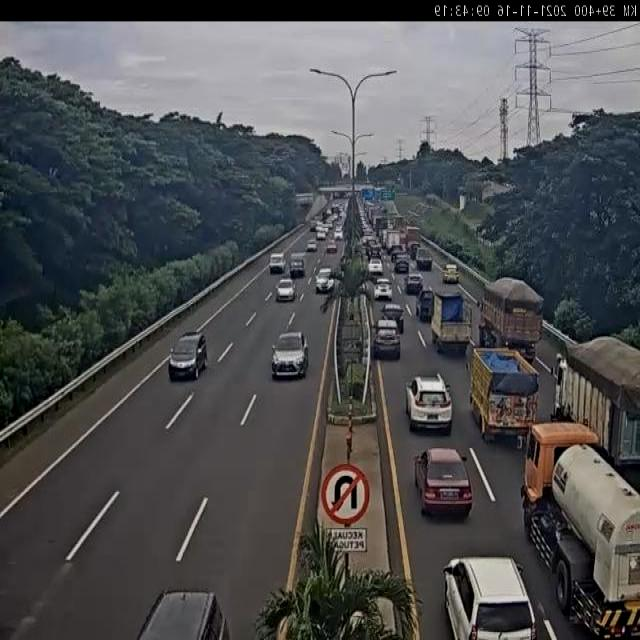Car: (444, 555, 537, 638), (414, 448, 473, 519), (405, 374, 454, 433), (167, 330, 209, 384), (271, 330, 309, 379), (373, 322, 402, 358), (381, 301, 405, 334), (414, 289, 433, 321), (315, 266, 334, 293), (276, 278, 296, 302), (406, 272, 424, 295), (373, 281, 392, 301), (394, 254, 410, 275), (368, 258, 383, 278), (369, 244, 382, 260), (390, 244, 403, 259), (306, 239, 317, 252), (327, 240, 338, 253), (334, 227, 344, 241), (316, 229, 326, 240), (321, 224, 330, 235), (314, 222, 324, 231), (310, 222, 318, 231)
Truck: (515, 414, 640, 640), (549, 334, 640, 492), (468, 345, 538, 445), (478, 276, 543, 362), (430, 289, 471, 355), (289, 251, 306, 279), (268, 251, 287, 274), (404, 224, 420, 251), (415, 248, 433, 270), (386, 228, 400, 255), (443, 263, 459, 284), (408, 242, 421, 260), (386, 219, 396, 234)
